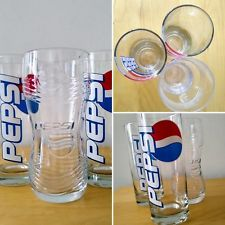pepsi: (145, 118, 181, 159), (145, 121, 181, 159), (148, 118, 181, 159)
